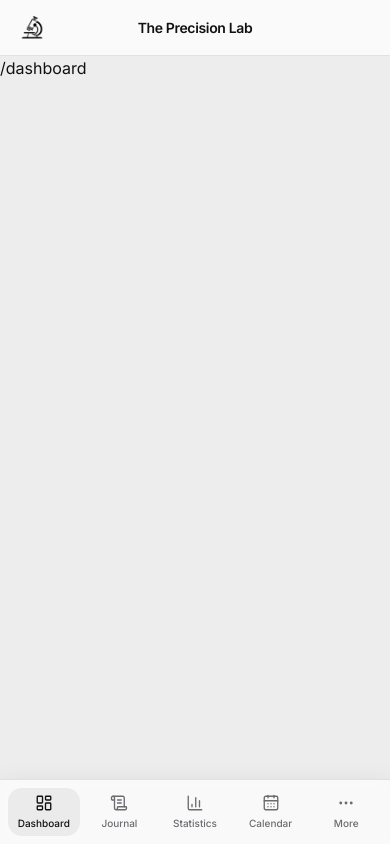
Test: workspace navigation › opens a mobile drawer with existing routes and closes after navigation
Click the button with aria-label "More navigation": (346, 812) [310,788,382,836]
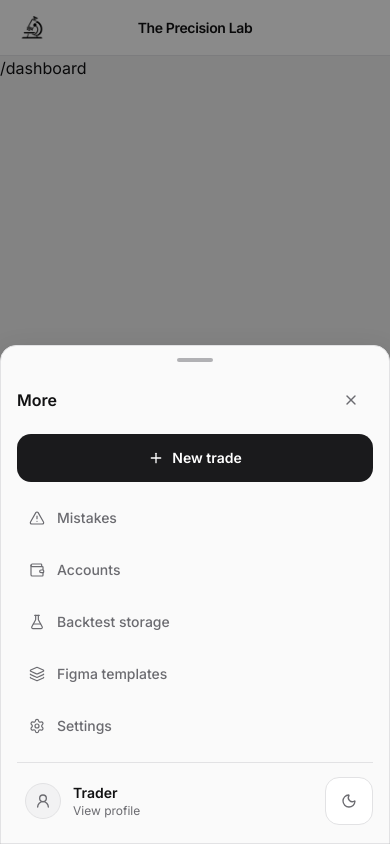
Now the navigation bar named "More navigation" is shown, box [0,345,389,843]
Click the link to "/accounts": (75, 570) [29,561,120,578]
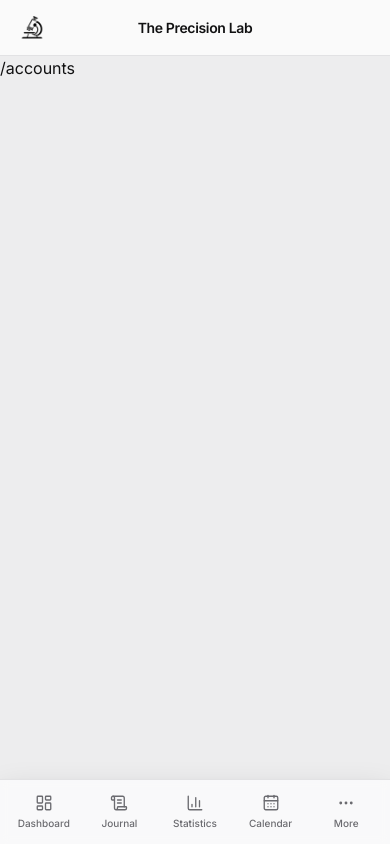
Now the text named "Current route" reads "/accounts", box [0,58,75,78]
